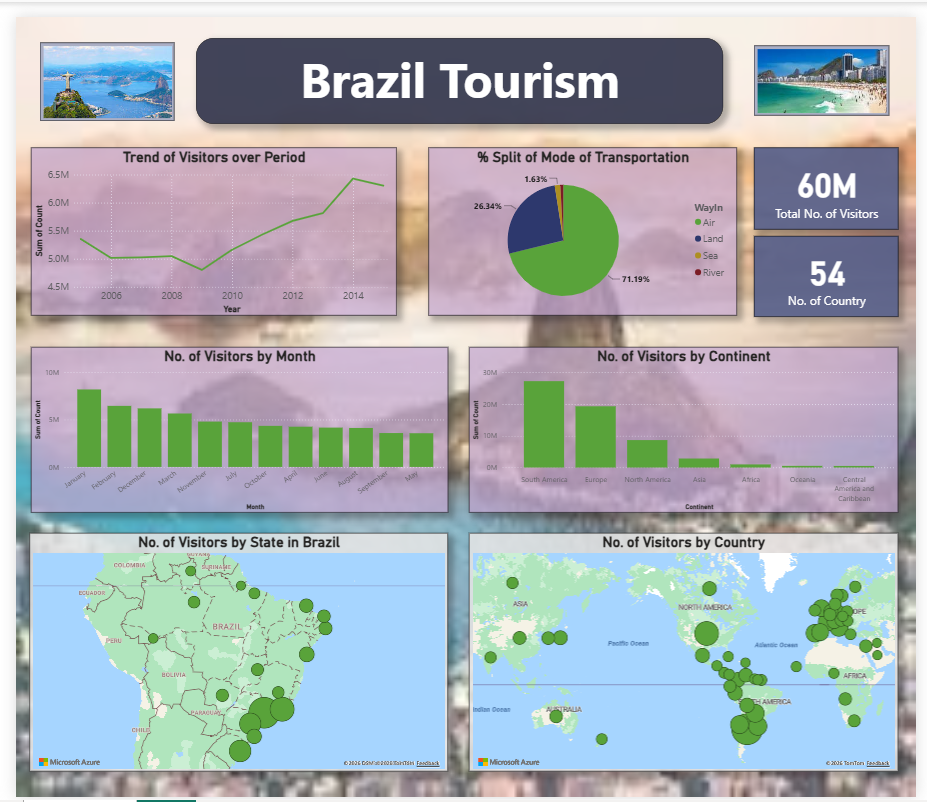

The dashboard page shown, as its layout file describes it:
{"tool":"powerbi","page":{"name":"Page 1","canvas":[1500,1300],"ordinal":0},"visuals":[{"type":"lineChart","title":"Trend of Visitors over Period","fields":{"Category":["TurDataDeBrazil (1) (1) (1).Year"],"Y":["Sum(TurDataDeBrazil (1) (1) (1).Count)"]},"box":[24.3,218.5,609.2,280.3],"z":0},{"type":"textbox","box":[300.2,35.3,878.4,143.5],"z":1000},{"type":"image","box":[39.2,41.4,224.3,130.7],"z":2000},{"type":"card","fields":{"Values":["Sum(TurDataDeBrazil (1) (1) (1).Count)"]},"box":[1229.4,218.5,240.6,136.8],"z":3000},{"type":"card","fields":{"Values":["Count(TurDataDeBrazil (1) (1) (1).Country)"]},"box":[1229.4,364.2,240.6,134.6],"z":4000},{"type":"pieChart","title":"% Split of Mode of Transportation","fields":{"Y":["Sum(TurDataDeBrazil (1) (1) (1).Count)"],"Category":["TurDataDeBrazil (1) (1) (1).WayIn"]},"box":[686.4,218.5,514.3,280.3],"z":5000},{"type":"columnChart","title":"No. of Visitors by Month","fields":{"Category":["TurDataDeBrazil (1) (1) (1).Month"],"Y":["Sum(TurDataDeBrazil (1) (1) (1).Count)"]},"box":[24.3,549.6,695.2,275.9],"z":6000},{"type":"columnChart","title":"No. of Visitors by Continent","fields":{"Category":["TurDataDeBrazil (1) (1) (1).Continent"],"Y":["Sum(TurDataDeBrazil (1) (1) (1).Count)"]},"box":[754.8,549.6,715.1,275.9],"z":7000},{"type":"image","box":[1229.4,48.6,225.1,117],"z":8000},{"type":"azureMap","title":"No. of Visitors by State in Brazil","fields":{"Category":["TurDataDeBrazil (1) (1) (1).State"],"Size":["Sum(TurDataDeBrazil (1) (1) (1).Count)"]},"box":[22.1,860.8,697.5,397.3],"z":9000},{"type":"azureMap","title":"No. of Visitors by Country","fields":{"Category":["TurDataDeBrazil (1) (1) (1).Country"],"Size":["Sum(TurDataDeBrazil (1) (1) (1).Count)"]},"box":[754.8,860.8,715.1,397.3],"z":10000}]}

Visuals, with their boxes in screenshot pixels (x1, y1, x2, y2), scaled from the page's 1500x1300 canvas onto the 927x802 screenshot:
"Trend of Visitors over Period" lineChart: select_region(15, 135, 392, 308)
textbox: select_region(186, 22, 728, 110)
image: select_region(24, 26, 163, 106)
card - Sum(TurDataDeBrazil (1) (1) (1).Count): select_region(760, 135, 908, 219)
card - Count(TurDataDeBrazil (1) (1) (1).Country): select_region(760, 225, 908, 308)
"% Split of Mode of Transportation" pieChart: select_region(424, 135, 742, 308)
"No. of Visitors by Month" columnChart: select_region(15, 339, 445, 509)
"No. of Visitors by Continent" columnChart: select_region(466, 339, 908, 509)
image: select_region(760, 30, 899, 102)
"No. of Visitors by State in Brazil" azureMap: select_region(14, 531, 445, 776)
"No. of Visitors by Country" azureMap: select_region(466, 531, 908, 776)
